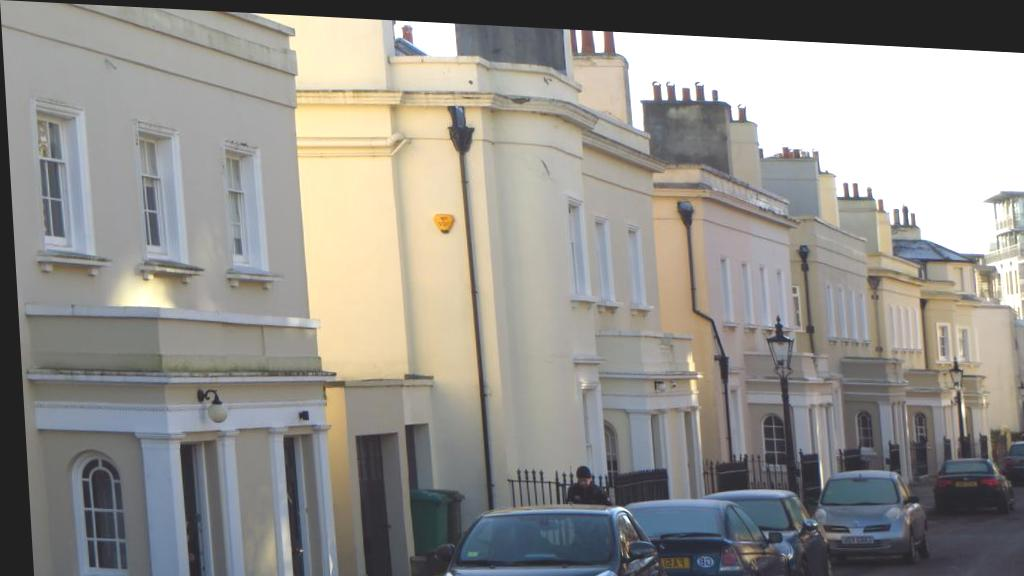License_Plate: (838, 534, 873, 551), (660, 557, 689, 571)
